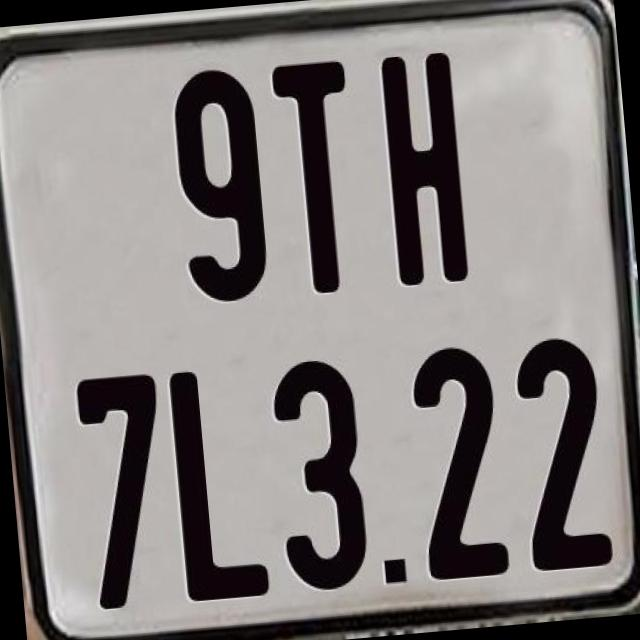2: (511, 330, 614, 576), (408, 342, 508, 585)
3: (267, 354, 367, 590)
7: (75, 370, 177, 614)
9: (167, 64, 273, 308)
H: (378, 49, 469, 288)
L: (168, 364, 272, 610)
T: (270, 55, 362, 297)
